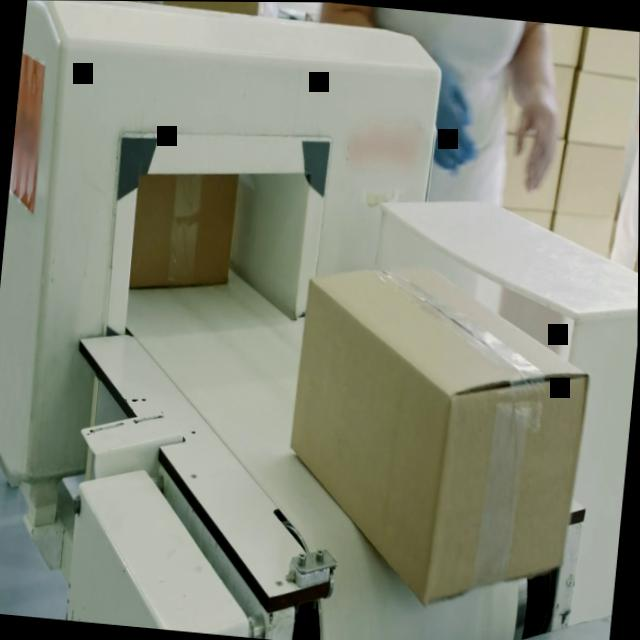box: (272, 257, 599, 621)
